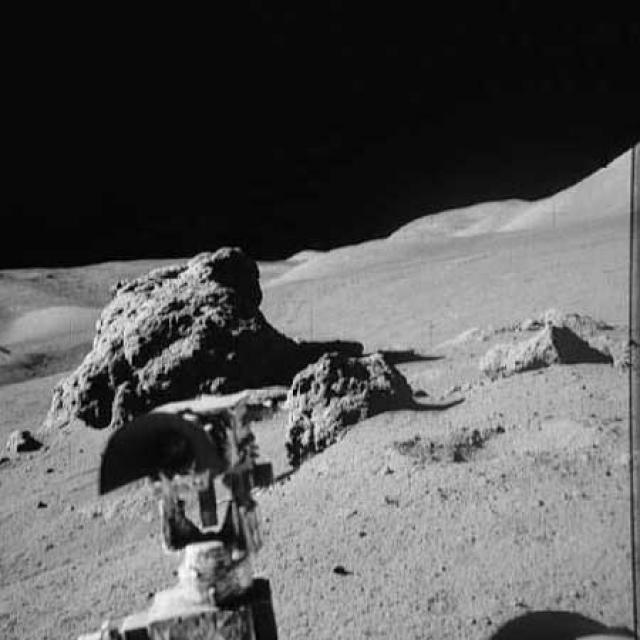artifact: (52, 412, 322, 638)
crater: (378, 412, 615, 466)
rock: (55, 244, 301, 417), (281, 356, 423, 452), (479, 329, 620, 382), (0, 418, 37, 456)
